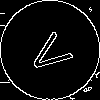V: (25, 25, 82, 80)
